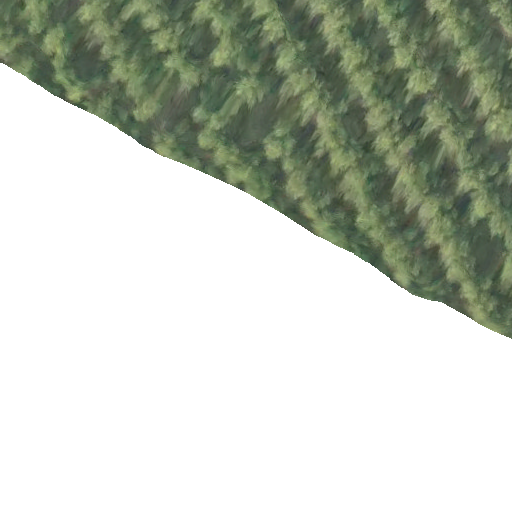eucalipto: (260, 120, 302, 163)
